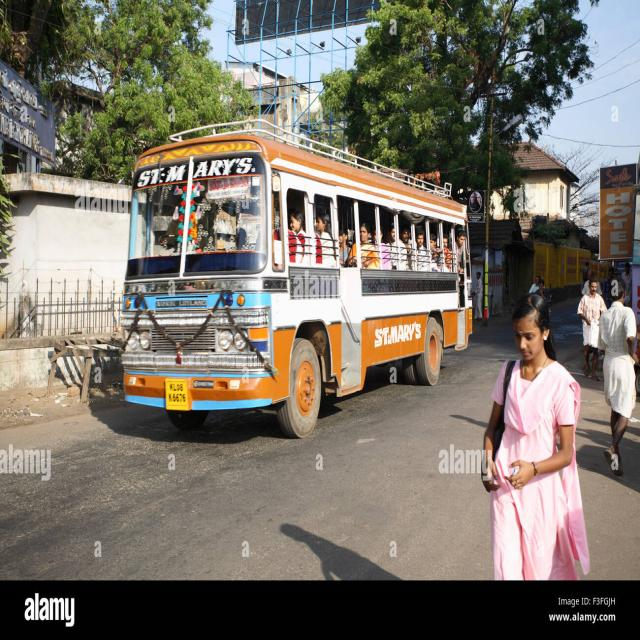bus: (116, 126, 479, 438)
